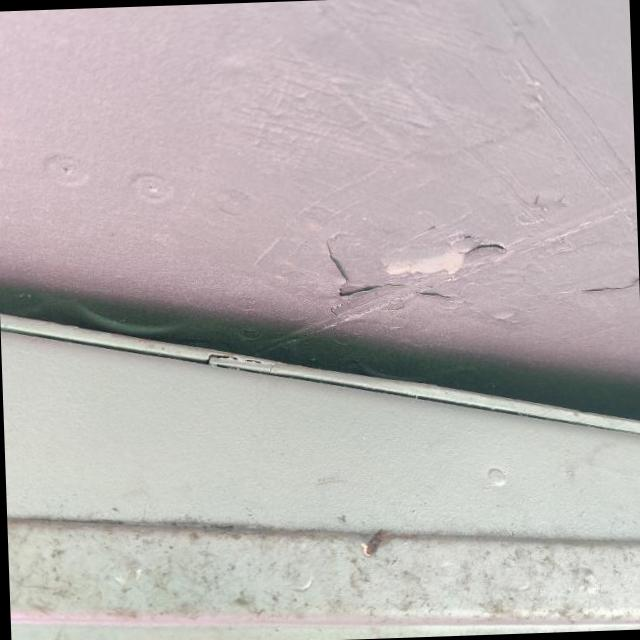Paint-off: (327, 225, 509, 301)
